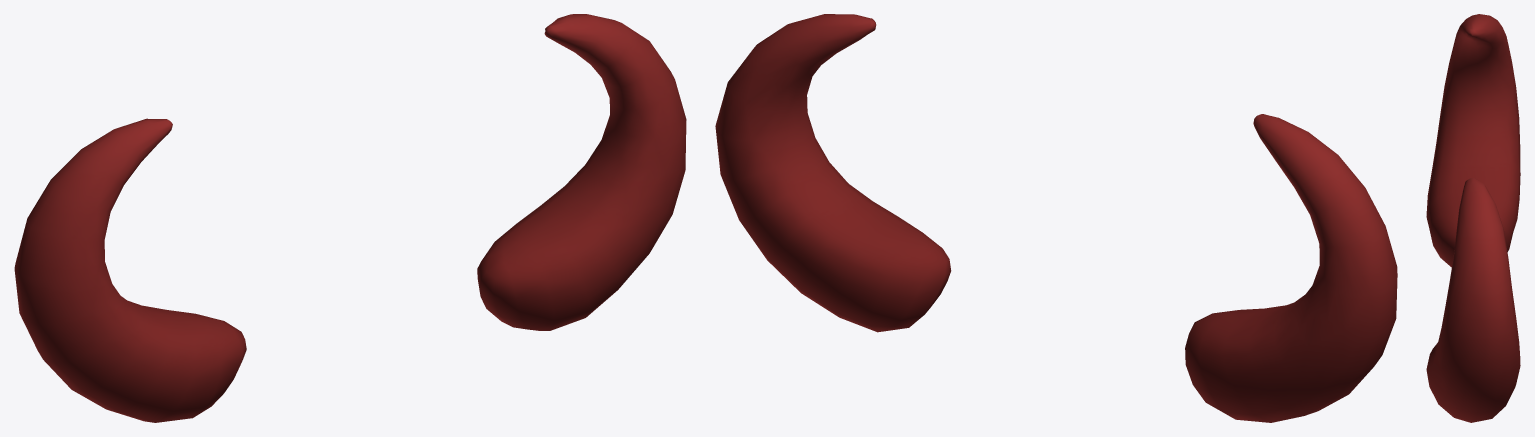
The model's file is devil_horn3.fbx.
3 views of the same model, side by side, from view 1: azimuth 30°, elevation 25°; view 2: azimuth 150°, elevation 25°; view 3: azimuth 270°, elevation 25° (orthographic). The views are drawn at different scales.
Visible parts, largest first — view 1: horn3zremesh:polySurface1; view 2: horn3zremesh:polySurface1; view 3: horn3zremesh:polySurface1.
Part boxes in pixels (<box>): horn3zremesh:polySurface1: <box>14,14,686,422</box>; horn3zremesh:polySurface1: <box>715,14,1397,422</box>; horn3zremesh:polySurface1: <box>1426,14,1520,422</box>.
Size of the model in its own units: 2.68 by 1.17 by 0.4139.
